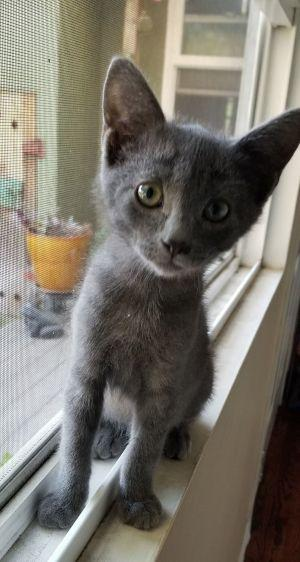rblue: (72, 41, 300, 319)
